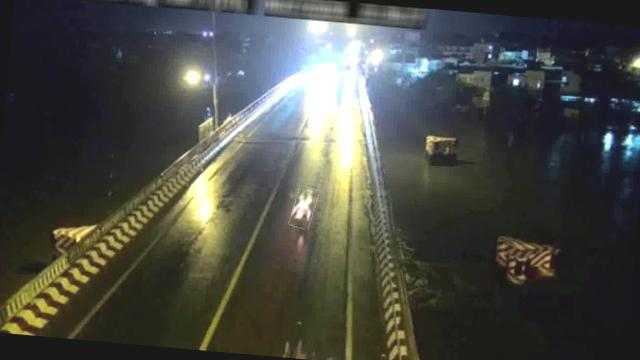Bike: (290, 185, 318, 229)
